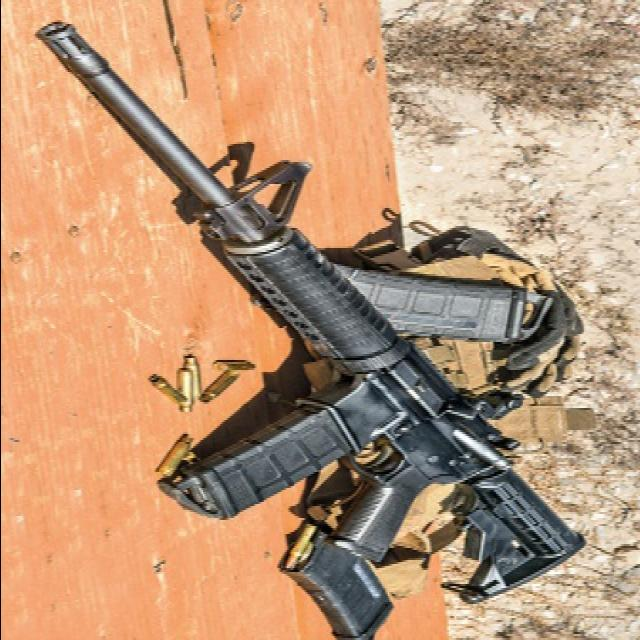rifle: (33, 15, 603, 637)
